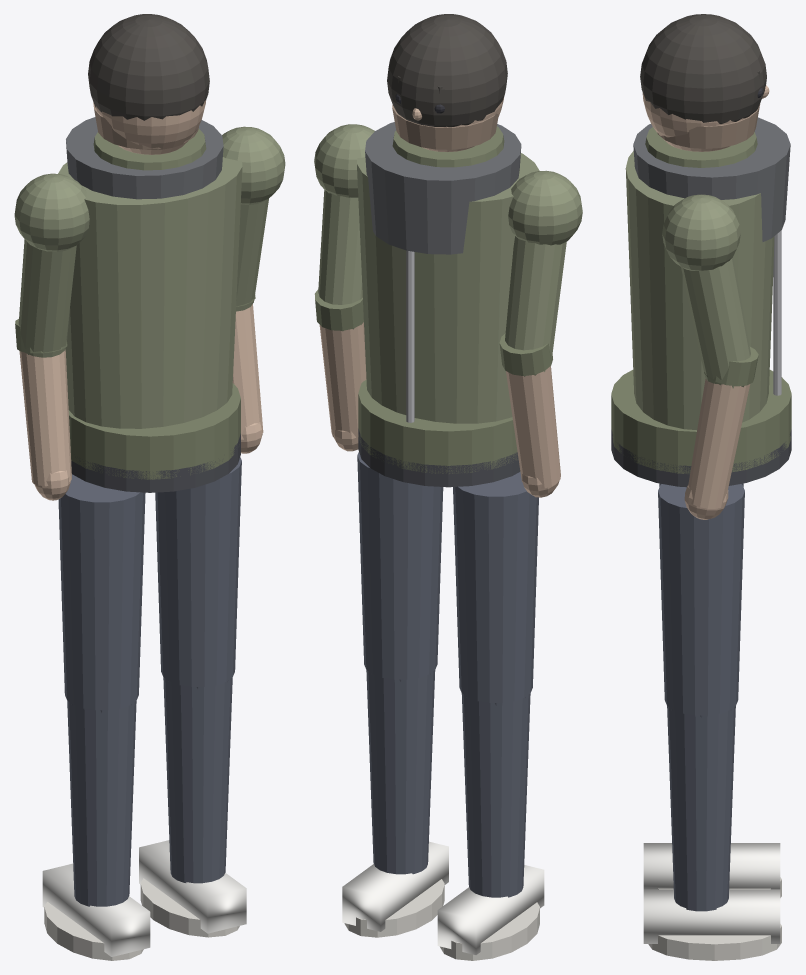
File: hero-v2.glb
3 renders of one model, left to right at view 1: azimuth 30°, elevation 25°; view 2: azimuth 150°, elevation 25°; view 3: azimuth 270°, elevation 25°, orthographic.
Visible parts, largest first — view 1: Torso, LegR, LegL, ShinR, ShinL, Hair, Hem, TeePanel, ForeR, ArmR, ShoulderR, FootR (+11 smaller); view 2: Torso, LegR, LegL, ShinL, ShinR, TeePanel, Hair, Hem, ArmR, ForeR, ShoulderR, FootR (+12 smaller); view 3: Torso, LegL, ShinL, Hair, Hem, TeePanel, FootL, ArmL, ForeL, ShoulderL, FootR, SoleL (+7 smaller).
Part boxes in pixels (left/top/right/bottom): Torso: left=58, top=157, right=242, bottom=428; LegR: left=58, top=474, right=145, bottom=710; LegL: left=155, top=457, right=241, bottom=686; ShinR: left=67, top=700, right=136, bottom=906; ShinL: left=163, top=677, right=232, bottom=883; Hair: left=88, top=14, right=209, bottom=120; Hem: left=68, top=383, right=240, bottom=479; TeePanel: left=66, top=117, right=223, bottom=199; ForeR: left=19, top=349, right=71, bottom=486; ArmR: left=18, top=239, right=76, bottom=357; ShoulderR: left=14, top=173, right=89, bottom=252; FootR: left=42, top=863, right=150, bottom=956; Torso: left=357, top=153, right=539, bottom=423; LegR: left=453, top=472, right=538, bottom=702; LegL: left=357, top=452, right=443, bottom=679; ShinL: left=366, top=670, right=435, bottom=874; ShinR: left=461, top=693, right=530, bottom=897; TeePanel: left=365, top=122, right=521, bottom=254; Hair: left=387, top=14, right=507, bottom=127; Hem: left=358, top=379, right=518, bottom=473; ArmR: left=505, top=236, right=566, bottom=359; ForeR: left=506, top=366, right=560, bottom=488; ShoulderR: left=508, top=170, right=582, bottom=245; FootR: left=437, top=865, right=544, bottom=954; Torso: left=625, top=151, right=774, bottom=429; LegL: left=658, top=484, right=744, bottom=715; ShinL: left=667, top=706, right=735, bottom=911; Hair: left=640, top=14, right=766, bottom=123; Hem: left=611, top=370, right=791, bottom=474; TeePanel: left=633, top=117, right=790, bottom=241; FootL: left=643, top=889, right=780, bottom=943; ArmL: left=681, top=257, right=750, bottom=384; ForeL: left=688, top=378, right=750, bottom=508; ShoulderL: left=662, top=194, right=740, bottom=271; FootR: left=643, top=843, right=780, bottom=889; SoleL: left=648, top=924, right=781, bottom=960.
Size of the model in its own units: 0.57 by 1.89 by 0.344.
